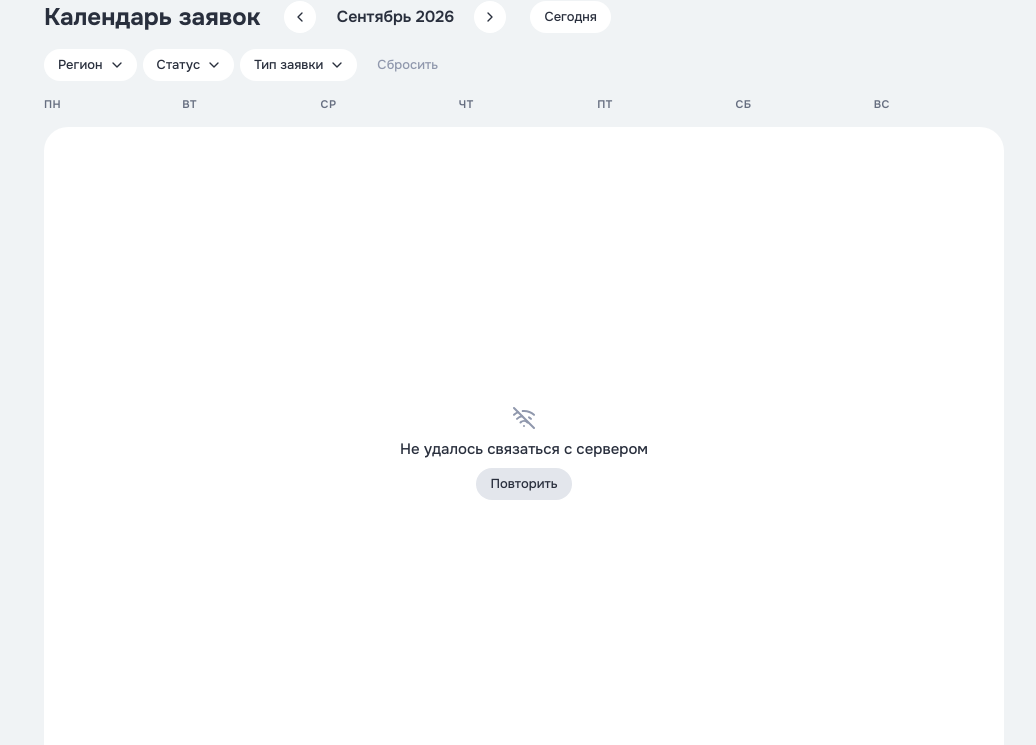
DS-01 Календарь заявок › ошибка сети — «Повторить»
Expected: the text "Не удалось связаться с сервером" is shown, [400,438,648,460]
Click the button "Повторить" at (524, 484), box [476,468,572,500]
(page scrolled)
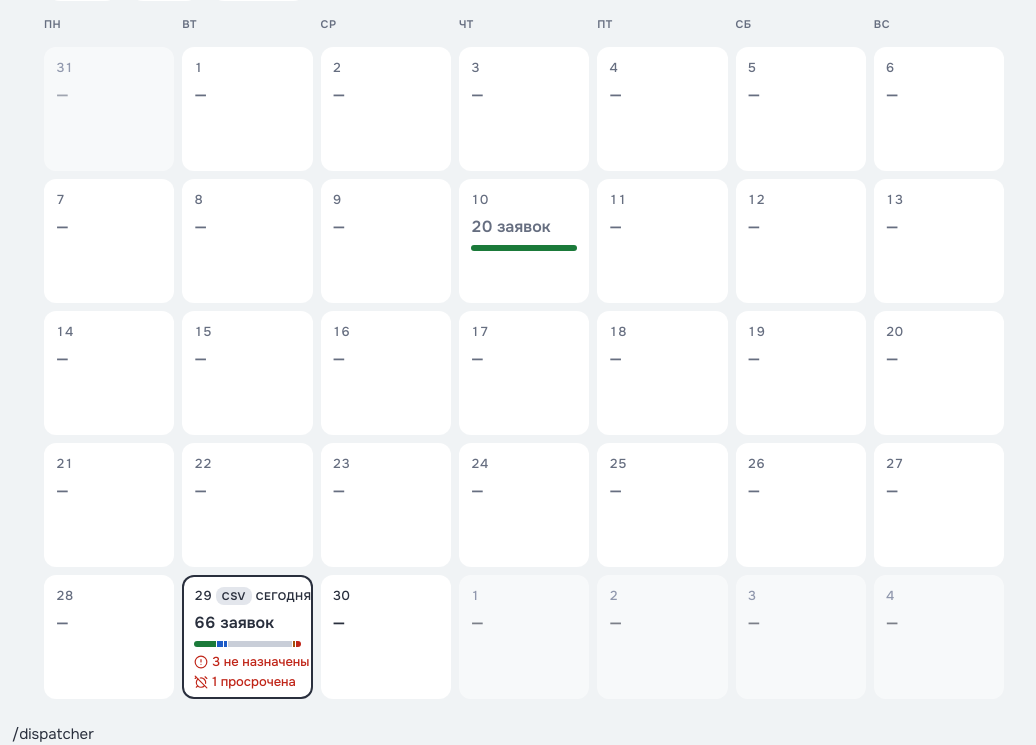
Expected: the link "29 CSV СЕГОДНЯ 66 заявок 3 не назначены 1 просрочена" is shown, [182,575,313,699]
